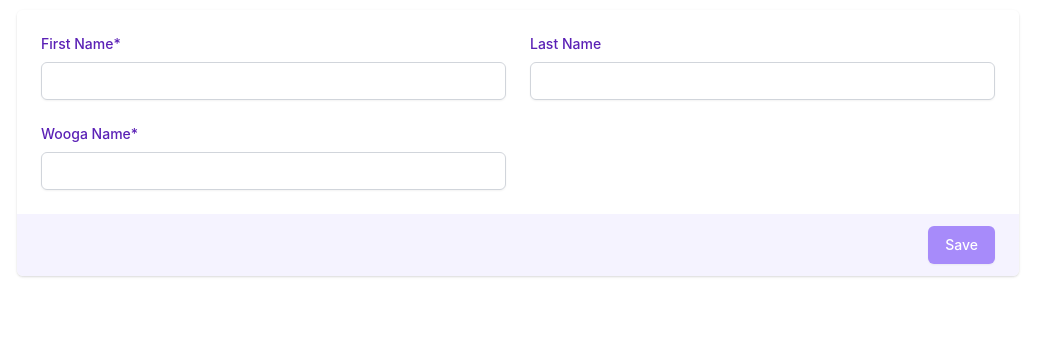
Test: does required validation
Type "lastName" into the field with id "lastName".
click(762, 81); type("lastName")  # box [530,62,995,100]
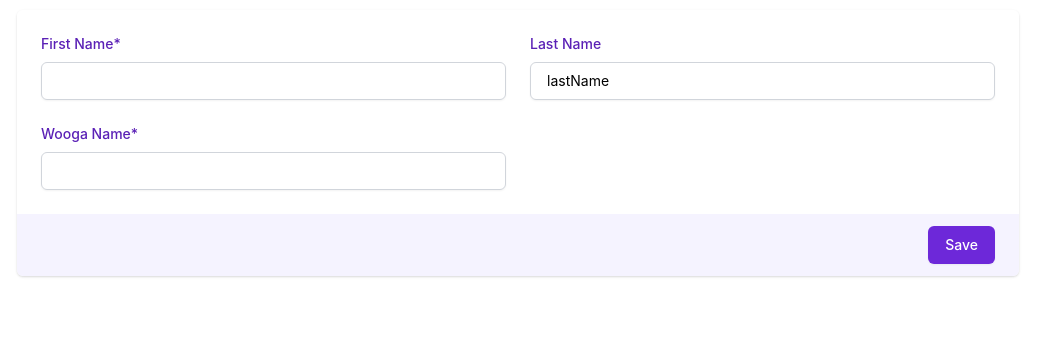
Click the button "Save".
click(962, 245)  # box [928,226,995,264]
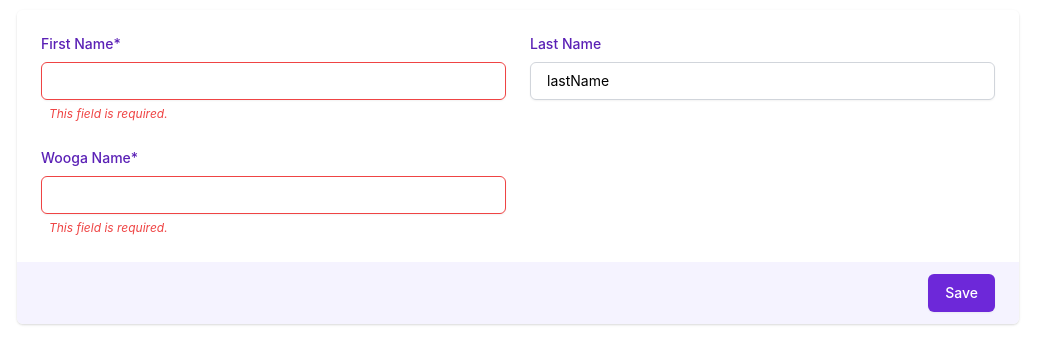
Expected: the text "This field is required." is shown 2 times, [41,106,168,121]; [41,220,168,235]
